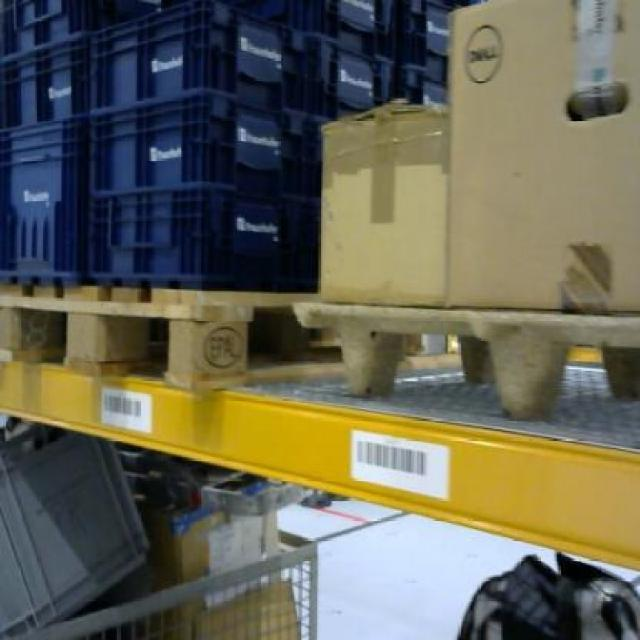box: (452, 1, 640, 307), (308, 102, 452, 306)
